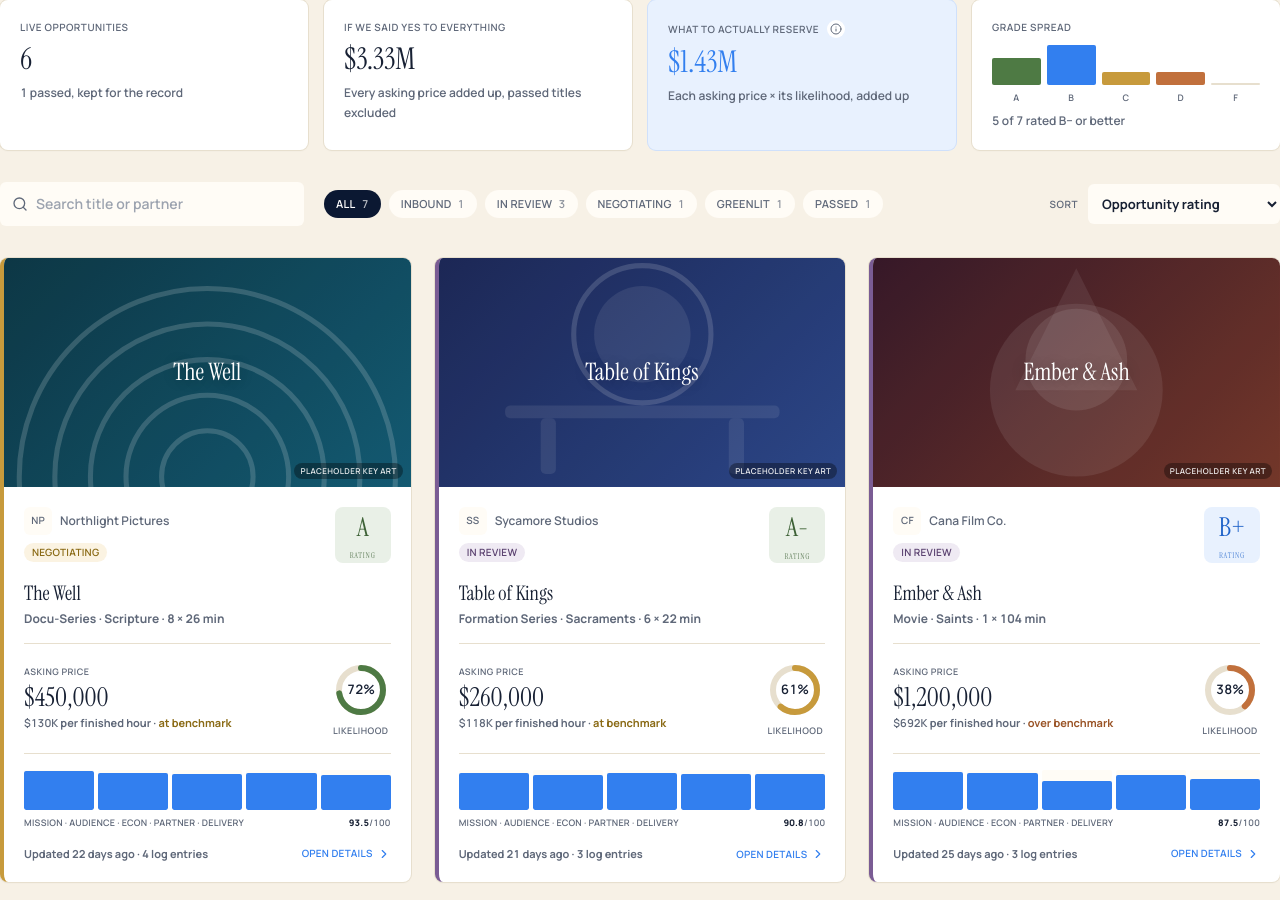
Test: CoproductionSlate › keeps update logging read-only on the demo page
Click the button with aria-label "Open details for The Well".
click(207, 570)  # box [4,258,411,882]
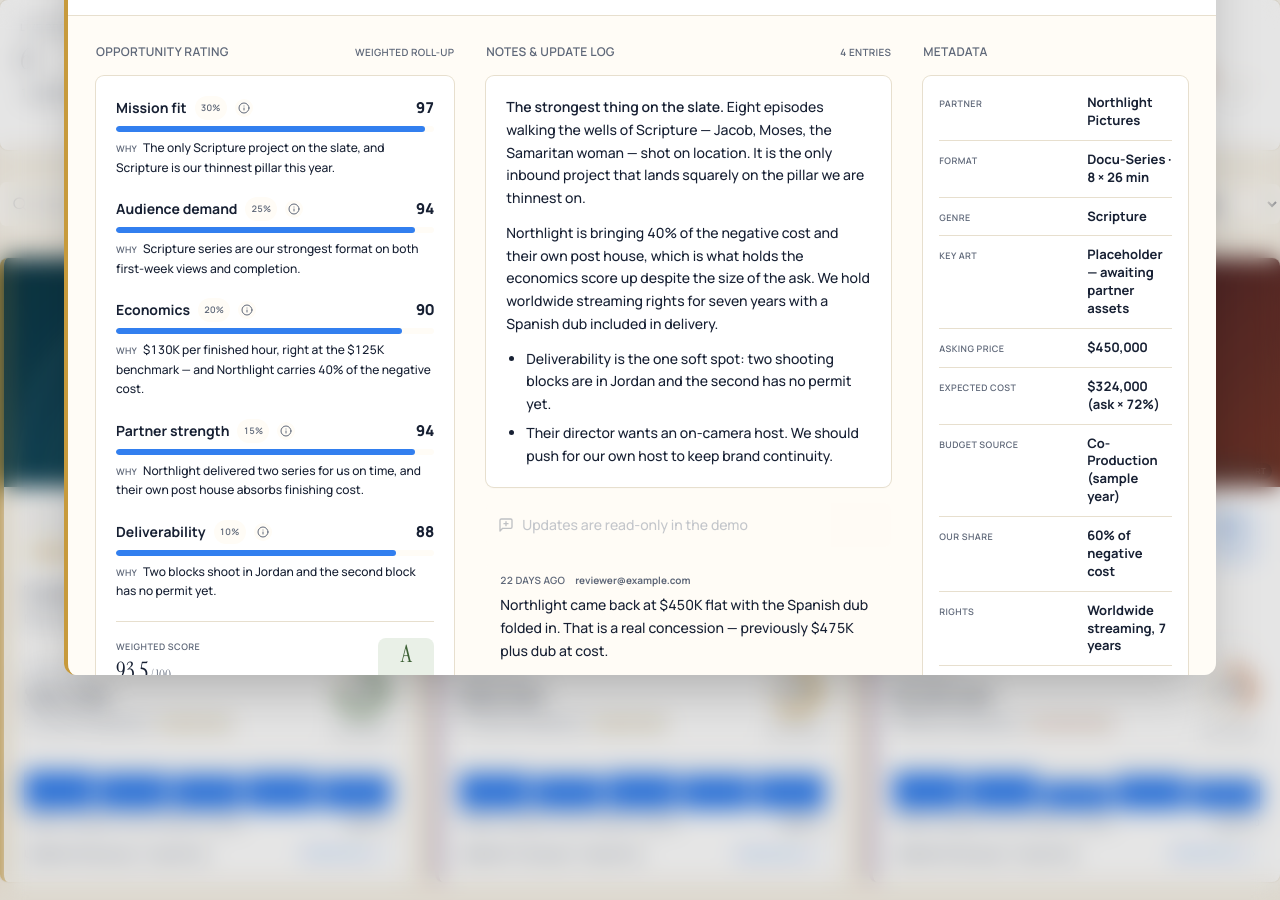
Now the field named "Log an update on The Well" is disabled, box [486,503,891,547]
